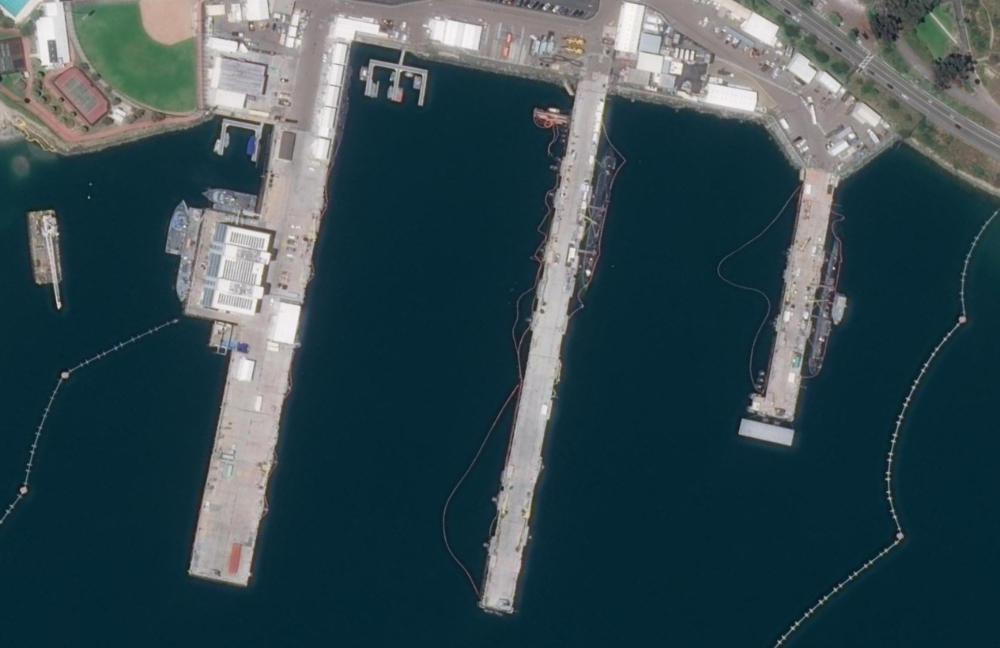submarine: (563, 132, 632, 318), (810, 235, 856, 394)
